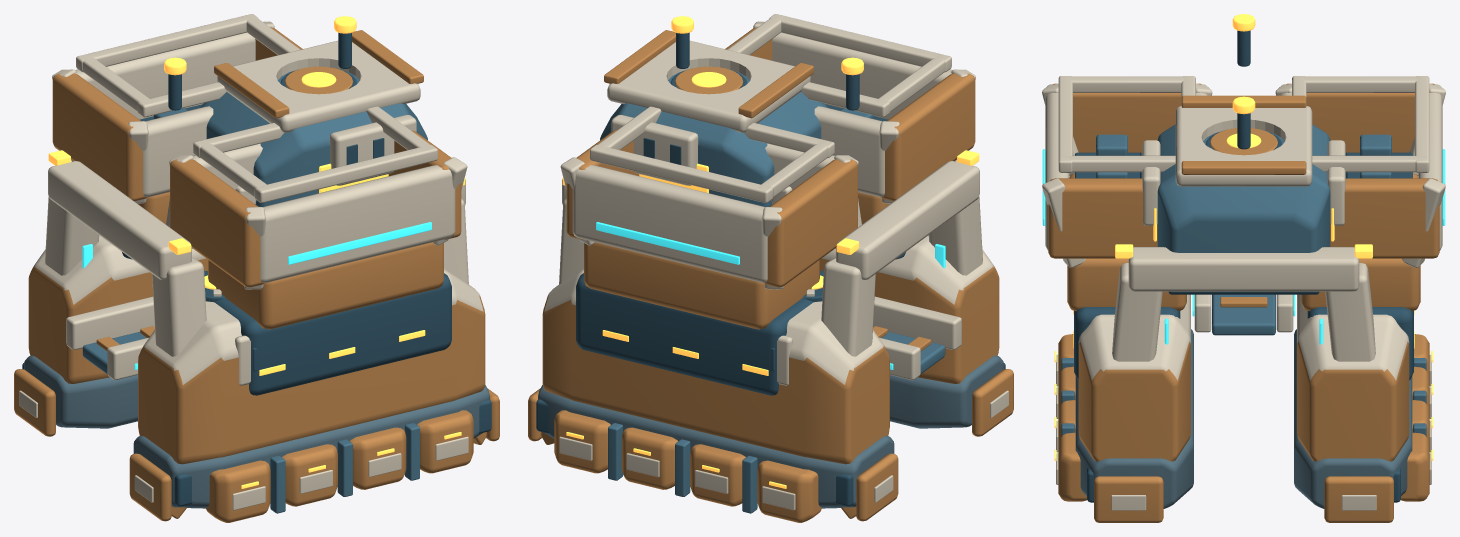
The model's file is refinery.glb.
The picture shows the model from 3 angles, left to right: view 1: azimuth 30°, elevation 25°; view 2: azimuth 150°, elevation 25°; view 3: azimuth 270°, elevation 25°; orthographic projection.
Parts seen in each view (by area): view 1: Rising ochre load shoulder, Hopper raised side plate, Hopper navy pressure cradle, Hopper ochre lower shell, Rising ochre load shoulder.001, Furnace warm crown plate, Hopper beveled end, Hopper beveled end.002, Ring passage armored crown, Raised furnace pressure chamber, Continuous refinery pressure cheek, Hopper raised side plate.003 (+39 smaller); view 2: Rising ochre load shoulder.001, Hopper raised side plate.003, Hopper navy pressure cradle.001, Hopper ochre lower shell.001, Rising ochre load shoulder, Furnace warm crown plate, Hopper beveled end.002, Hopper beveled end, Ring passage armored crown, Raised furnace pressure chamber, Continuous refinery pressure cheek.001, Hopper raised side plate (+39 smaller); view 3: Rising ochre load shoulder, Rising ochre load shoulder.001, Raised furnace pressure chamber, Ring passage armored crown.001, Furnace warm crown plate, Hopper beveled end.001, Hopper beveled end.003, Hopper beveled end, Hopper beveled end.002, Continuous refinery pressure cheek.001, Continuous refinery pressure cheek, Portal flared pressure upright.001 (+39 smaller).
Boxes of the visible parts, <box> form: Rising ochre load shoulder: <box>138,268,485,464</box>; Hopper raised side plate: <box>260,165,455,282</box>; Hopper navy pressure cradle: <box>214,273,451,395</box>; Hopper ochre lower shell: <box>208,242,443,329</box>; Rising ochre load shoulder.001: <box>28,235,207,383</box>; Furnace warm crown plate: <box>217,40,420,132</box>; Hopper beveled end: <box>170,159,263,287</box>; Hopper beveled end.002: <box>52,73,146,201</box>; Ring passage armored crown: <box>48,161,191,279</box>; Raised furnace pressure chamber: <box>200,69,427,206</box>; Continuous refinery pressure cheek: <box>133,385,489,508</box>; Hopper raised side plate.003: <box>75,32,255,119</box>; Rising ochre load shoulder.001: <box>542,268,889,464</box>; Hopper raised side plate.003: <box>572,165,767,282</box>; Hopper navy pressure cradle.001: <box>576,273,813,395</box>; Hopper ochre lower shell.001: <box>584,242,819,329</box>; Rising ochre load shoulder: <box>820,235,999,383</box>; Furnace warm crown plate: <box>607,40,810,132</box>; Hopper beveled end.002: <box>764,159,857,287</box>; Hopper beveled end: <box>881,73,975,201</box>; Ring passage armored crown: <box>836,161,979,279</box>; Raised furnace pressure chamber: <box>600,69,827,206</box>; Continuous refinery pressure cheek.001: <box>538,385,894,508</box>; Hopper raised side plate: <box>772,32,952,119</box>; Rising ochre load shoulder: <box>1078,294,1190,461</box>; Rising ochre load shoulder.001: <box>1297,294,1409,461</box>; Raised furnace pressure chamber: <box>1157,124,1330,252</box>; Ring passage armored crown.001: <box>1128,247,1359,291</box>; Furnace warm crown plate: <box>1175,106,1312,186</box>; Hopper beveled end.001: <box>1048,178,1157,258</box>; Hopper beveled end.003: <box>1330,178,1439,258</box>; Hopper beveled end: <box>1053,83,1201,152</box>; Hopper beveled end.002: <box>1286,83,1434,152</box>; Continuous refinery pressure cheek.001: <box>1294,329,1412,508</box>; Continuous refinery pressure cheek: <box>1075,329,1193,508</box>; Portal flared pressure upright.001: <box>1112,263,1162,361</box>.
Size of the model in its own units: 2.61 by 2.82 by 2.66.
